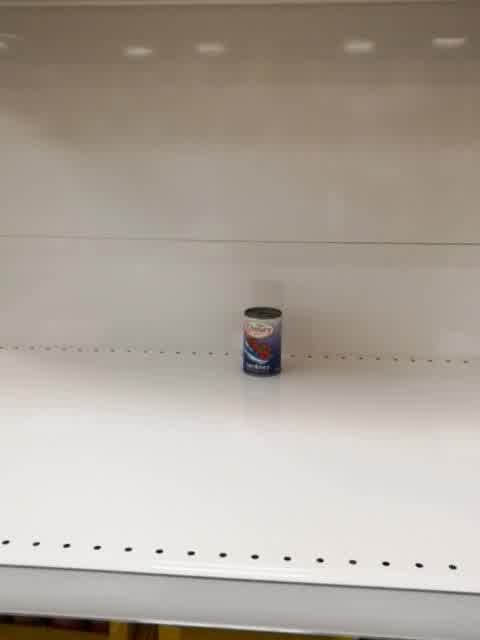sardine: (240, 306, 285, 378)
